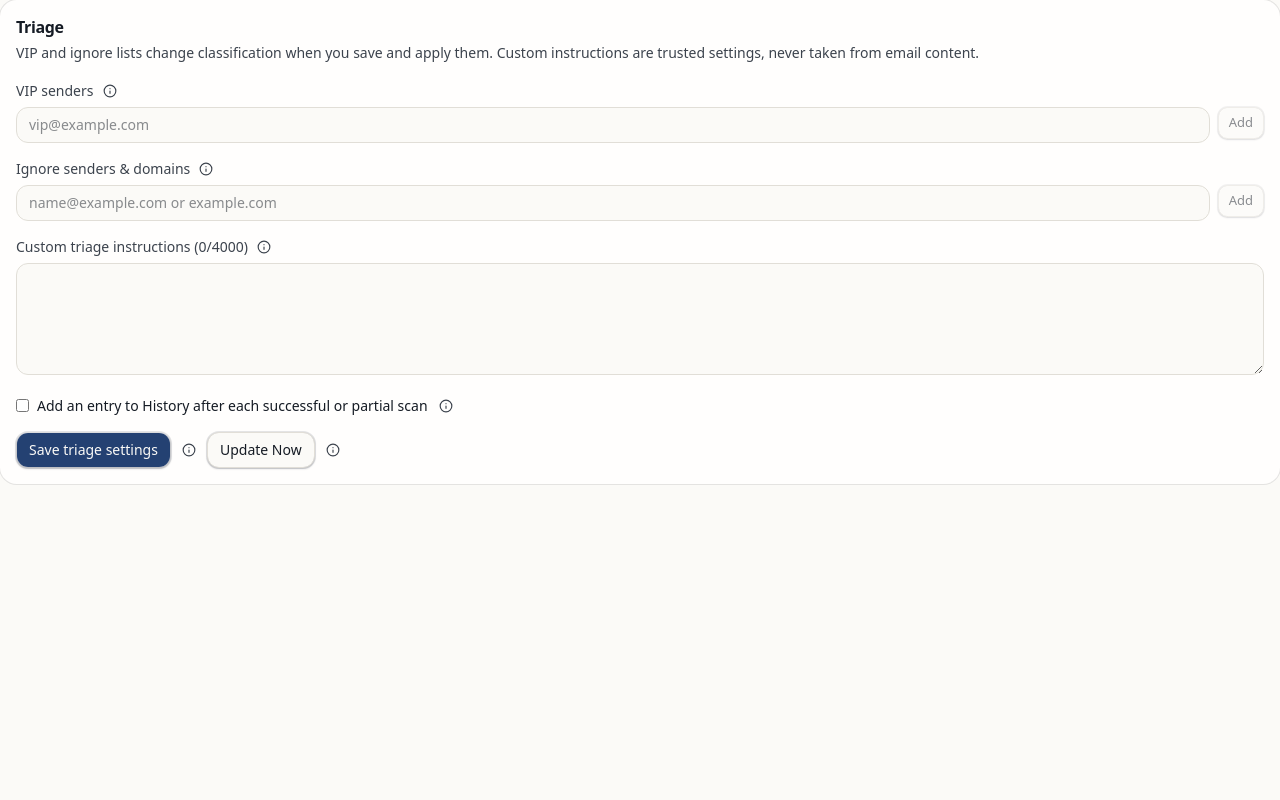
TriagePreferencesForm › puts an email and a domain from Ignore senders & domains on the correct lists
The width and height of the screenshot is (1280, 800).
Type "Noise@Example.com" into the field labelled "Ignore senders & domains" at (613, 203), box 16,185 -> 1210,221
Click the 2nd button "Add" at (1241, 201), box 1218,185 -> 1264,217
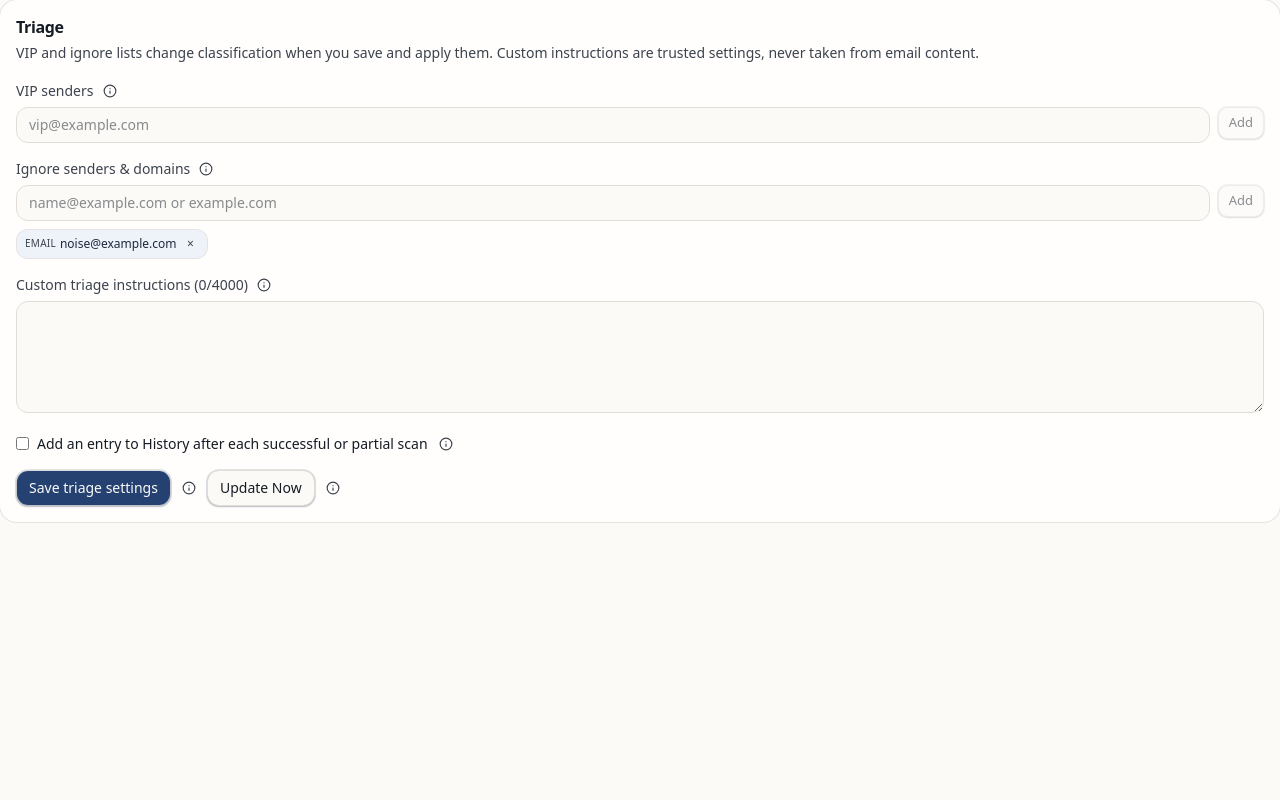
Type "Newsletters.Example.com" into the field labelled "Ignore senders & domains" at (613, 203), box 16,185 -> 1210,221
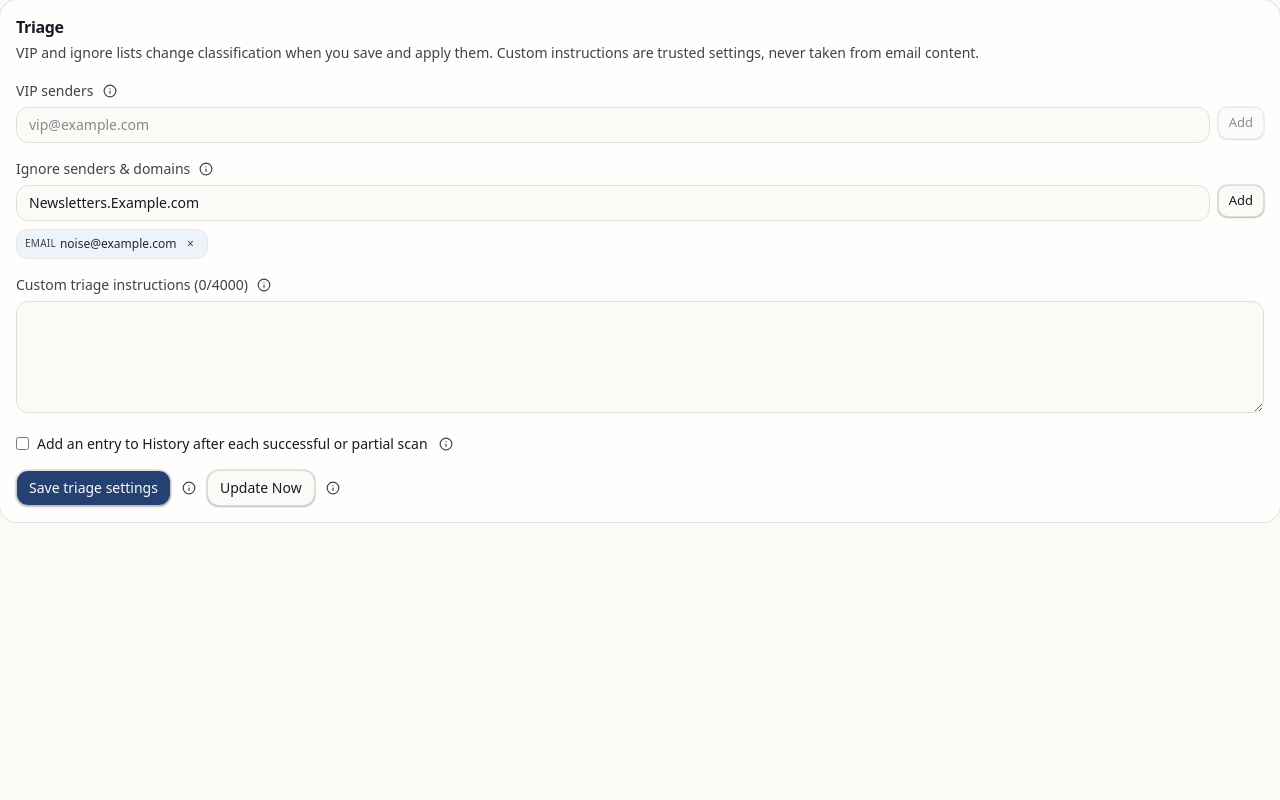
Click the 2nd button "Add" at (1241, 201), box 1218,185 -> 1264,217
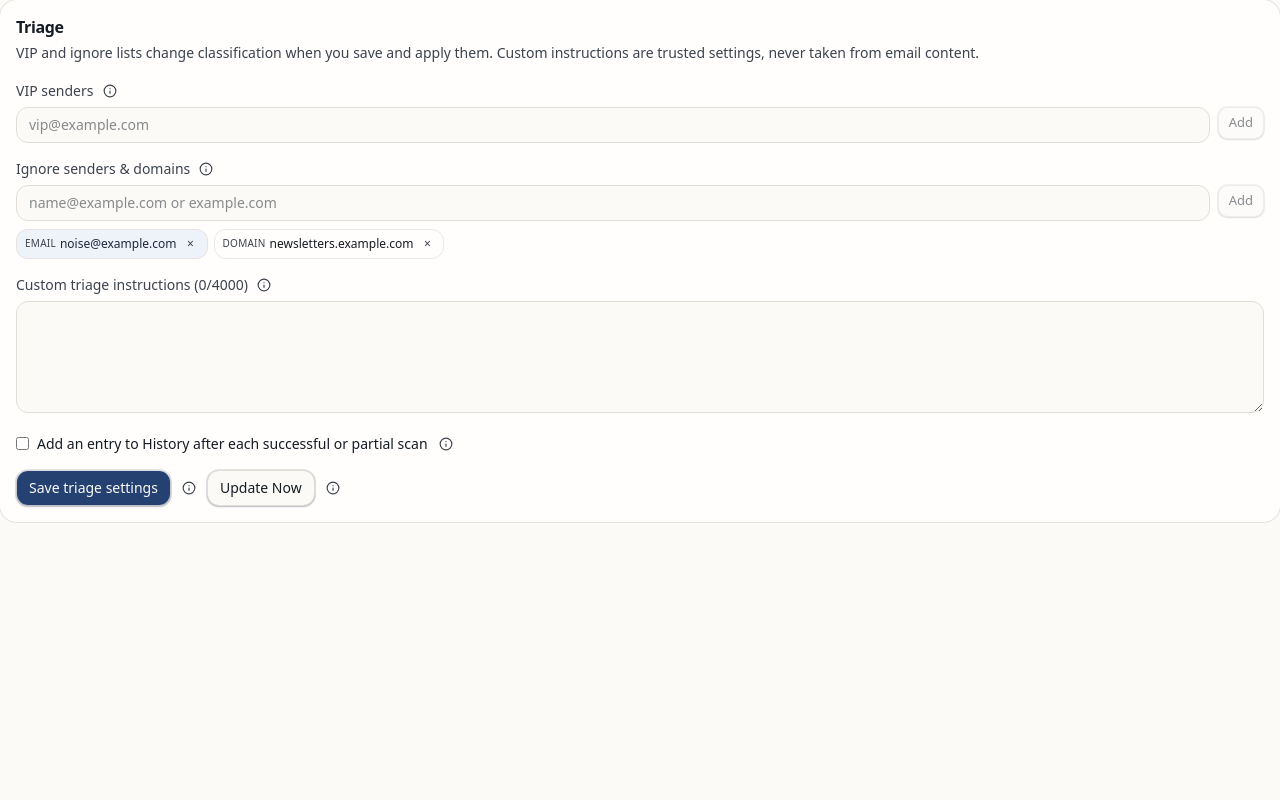
Expected: the text "noise@example.com" is shown, 60,236 -> 176,252
Expected: the text "Email" is shown, 25,237 -> 56,250
Expected: the text "newsletters.example.com" is shown, 270,236 -> 414,252
Type "not a domain" into the field labelled "Ignore senders & domains" at (613, 203), box 16,185 -> 1210,221
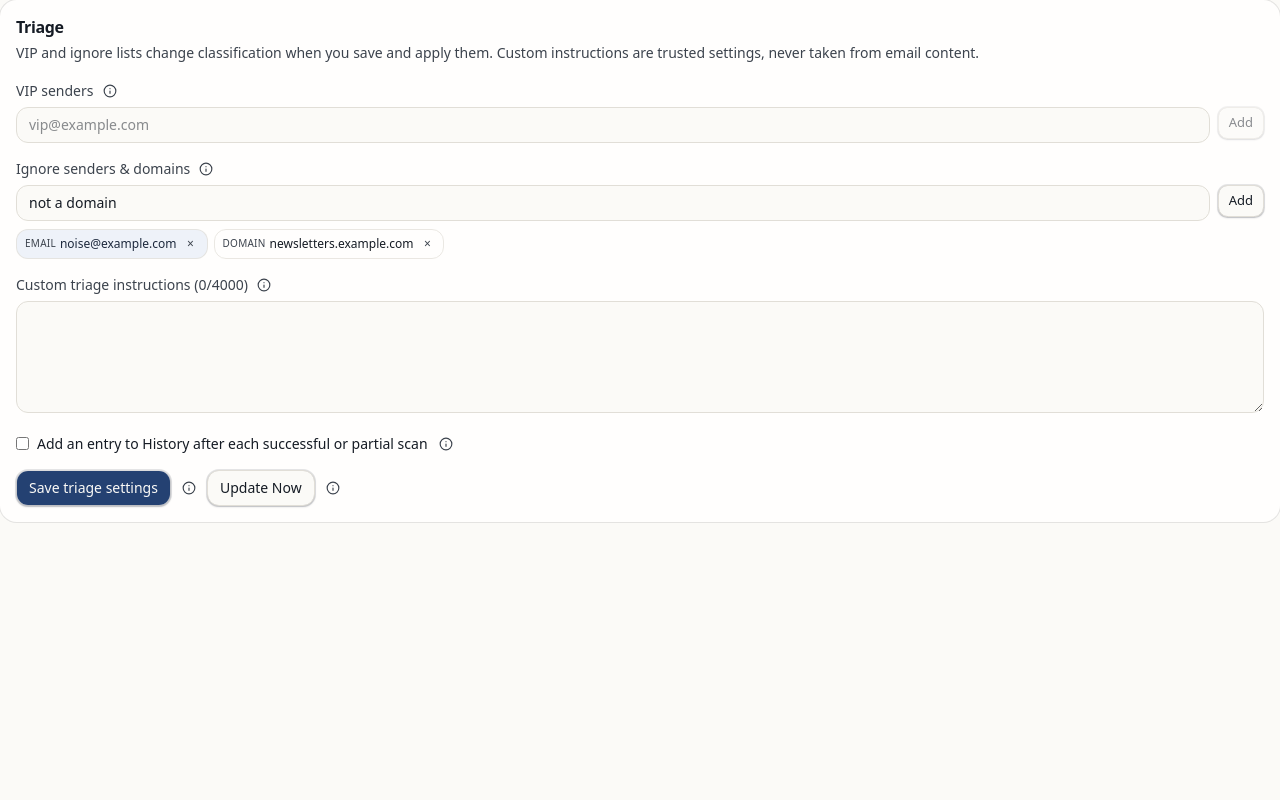
Click the 2nd button "Add" at (1241, 201), box 1218,185 -> 1264,217
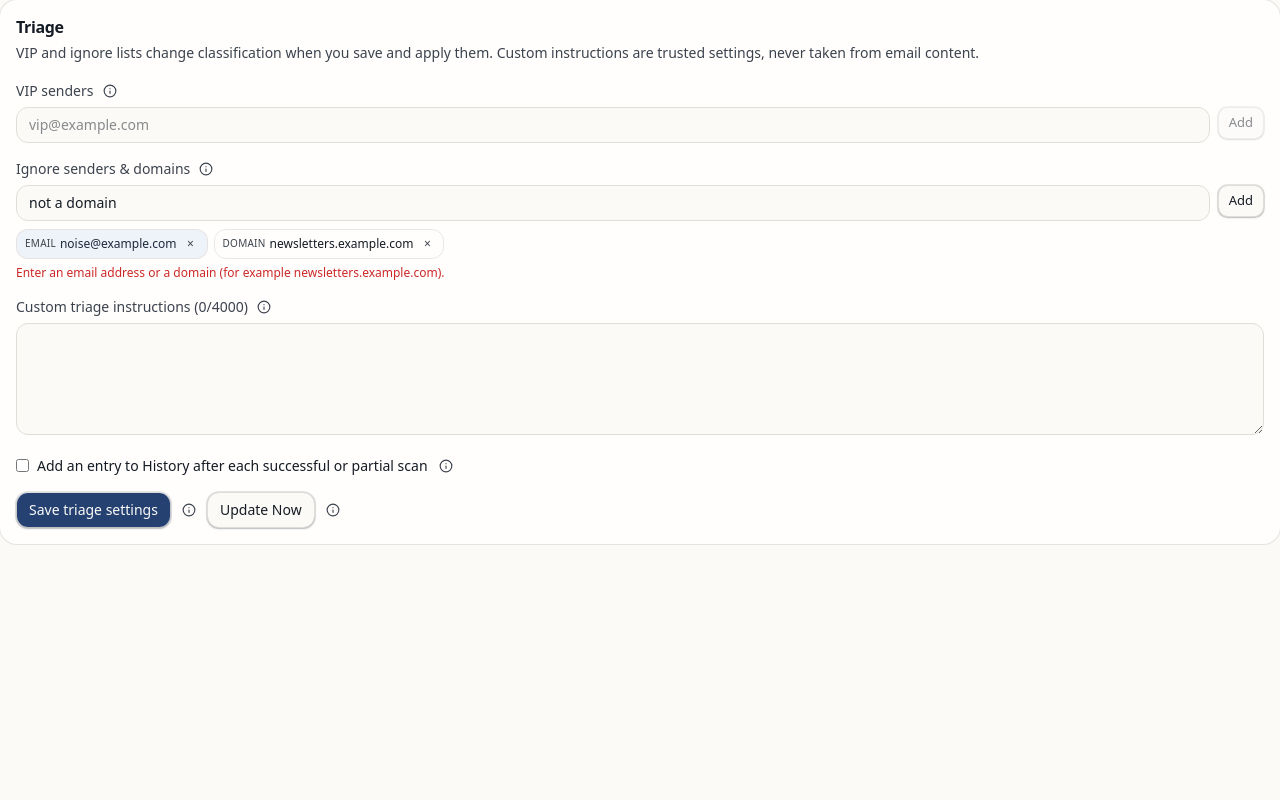
Expected: the message reads "Enter an email address or a domain (for example newsletters.example.com).", 16,264 -> 444,281
Click the button "Save triage settings" at (93, 510), box 16,492 -> 171,528
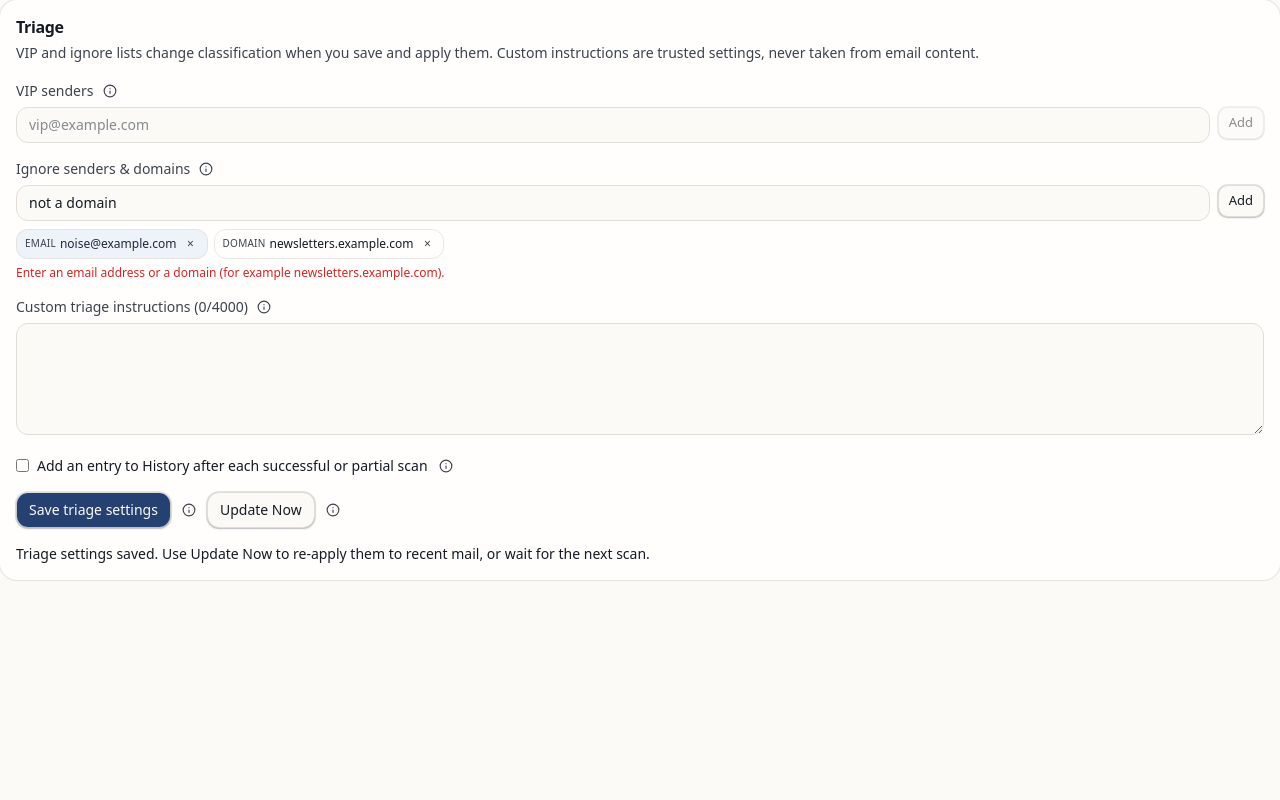
Expected: the text "Triage settings saved. Use Update Now to re-apply them to recent mail, or wait for the next scan." is shown, 16,544 -> 650,563
